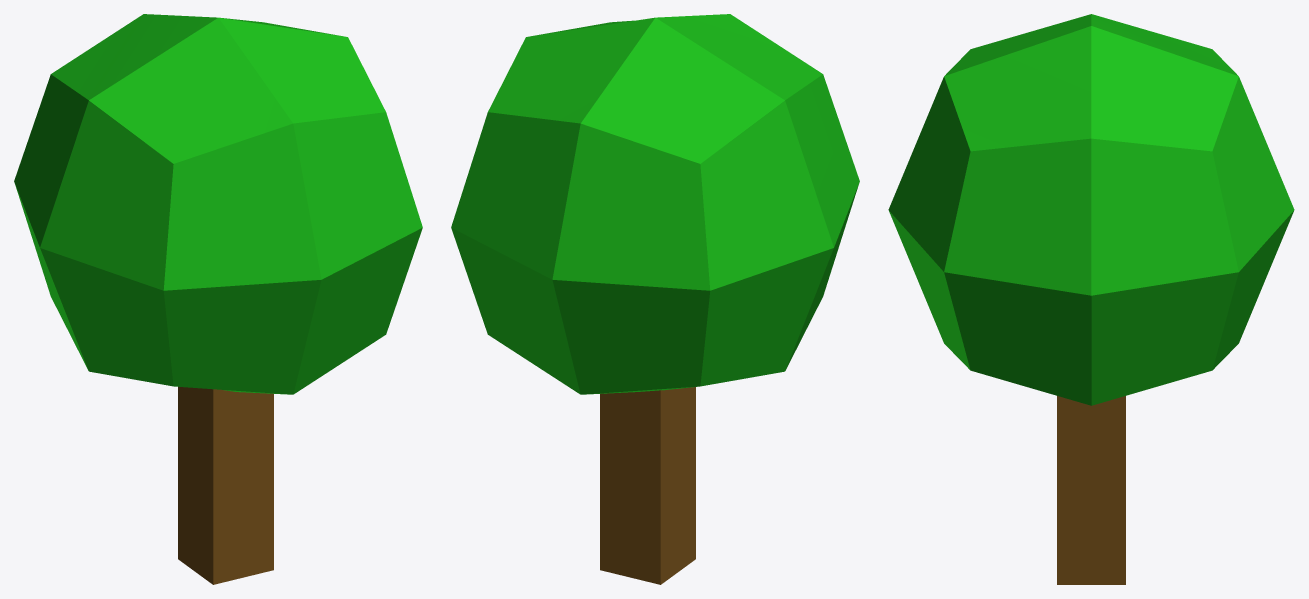
Rendered from tree.glb.
3 views of the same model, side by side, from view 1: azimuth 30°, elevation 25°; view 2: azimuth 150°, elevation 25°; view 3: azimuth 270°, elevation 25° (orthographic).
Visible parts, largest first — view 1: Tree; view 2: Tree; view 3: Tree.
Part boxes in pixels (bbox=[...]): Tree: bbox=[14, 14, 422, 584]; Tree: bbox=[451, 14, 859, 584]; Tree: bbox=[888, 14, 1294, 584].
Size of the model in its own units: 2.35 by 3.45 by 2.35.
1 material, 1 textured.
